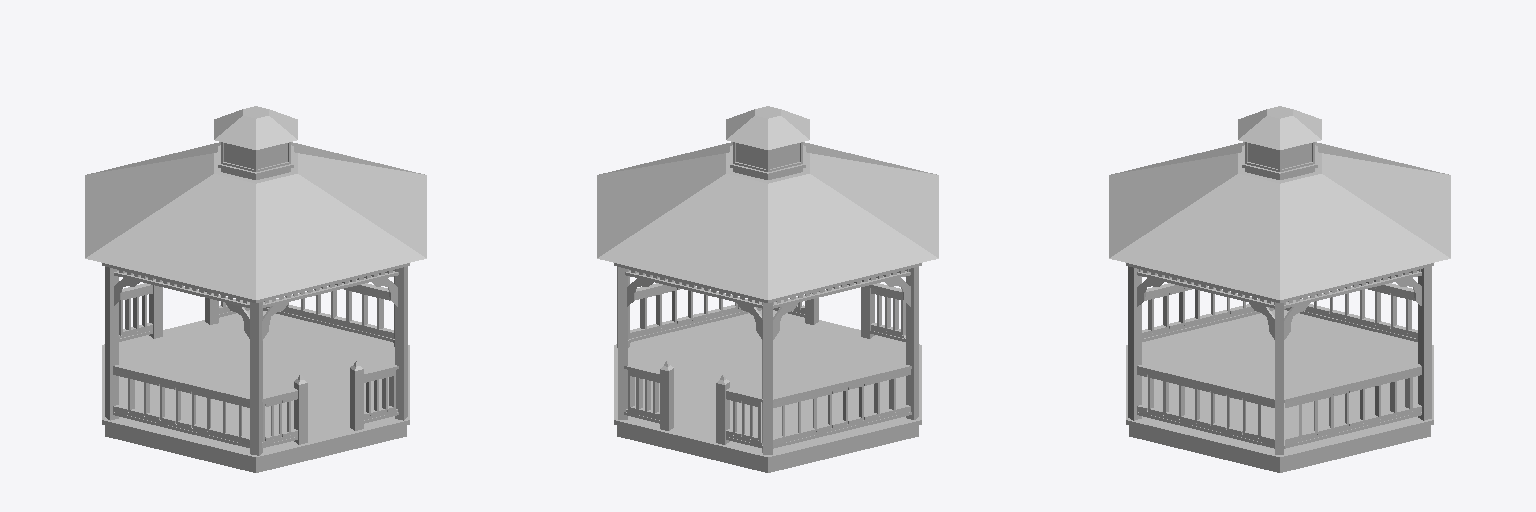
Rendered from Gazebo.obj.
The picture shows the model from 3 angles: view 1: azimuth 30°, elevation 25°; view 2: azimuth 150°, elevation 25°; view 3: azimuth 270°, elevation 25°; orthographic projection.
Parts seen in each view (by area): view 1: 10073_Gazebo_V2_L3; view 2: 10073_Gazebo_V2_L3; view 3: 10073_Gazebo_V2_L3.
Boxes of the visible parts, box(x1,y1,x2,y2) form: 10073_Gazebo_V2_L3: box(85, 106, 426, 472); 10073_Gazebo_V2_L3: box(597, 106, 938, 472); 10073_Gazebo_V2_L3: box(1109, 106, 1450, 472).
Size of the model in its own units: 119 by 95.79 by 103.